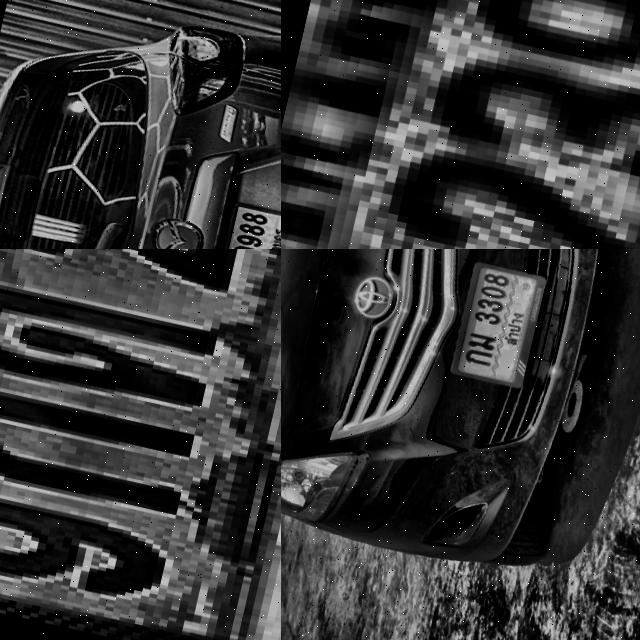license-plate: (0, 249, 281, 640), (281, 0, 640, 249), (444, 261, 547, 390), (211, 201, 281, 249)
